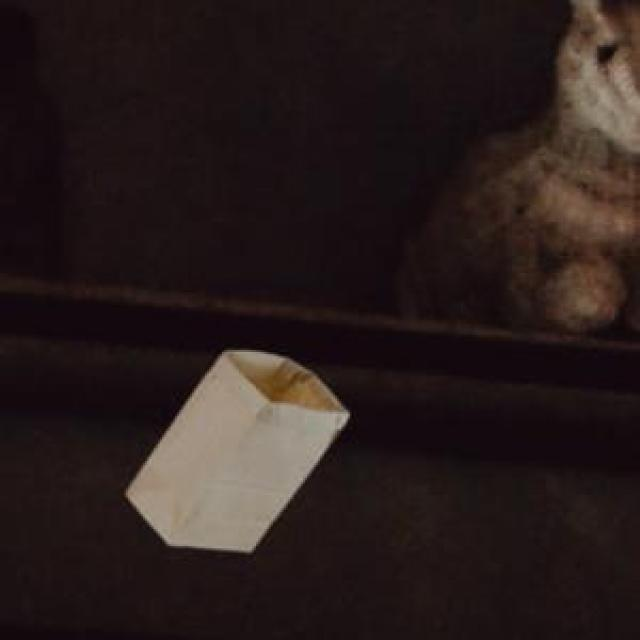paper: (122, 348, 344, 546)
